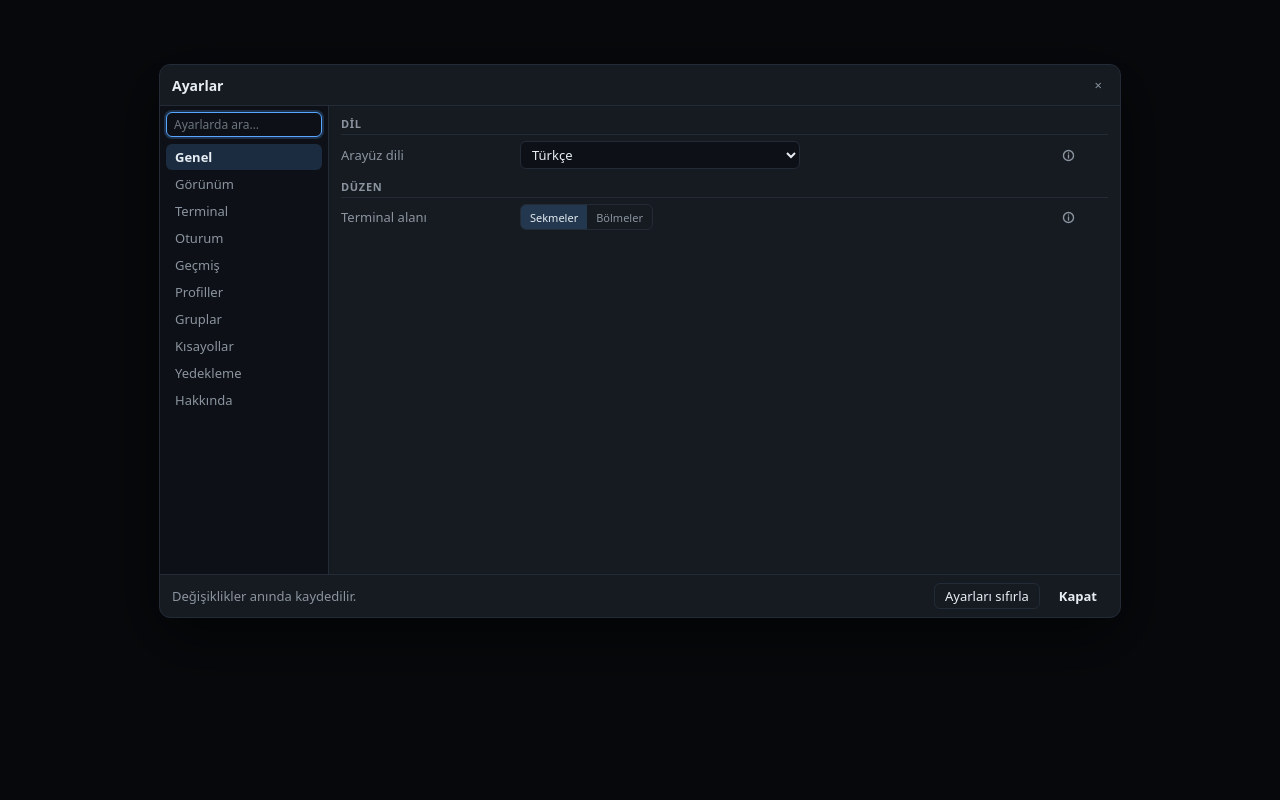
Test case: ayar değişikliğini geri alma › açılışta hiçbir satırda geri al yok — varsayılandan farklı olsa bile
This screenshot has width=1280, height=800.
Click the button "Görünüm" at (244, 184), box [166,171,322,197]
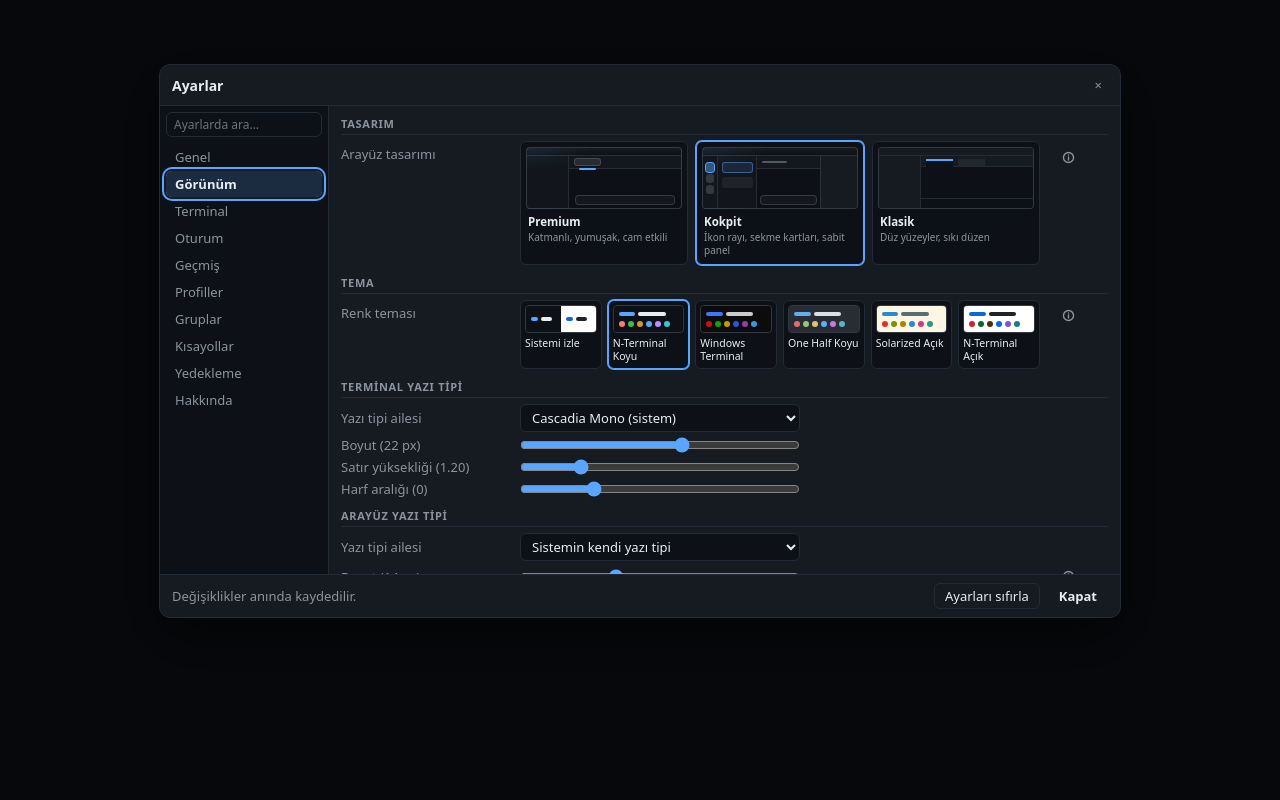
Expected: the element that starts with "Arayüz tasarımı" is shown, [341,139,1108,267]
